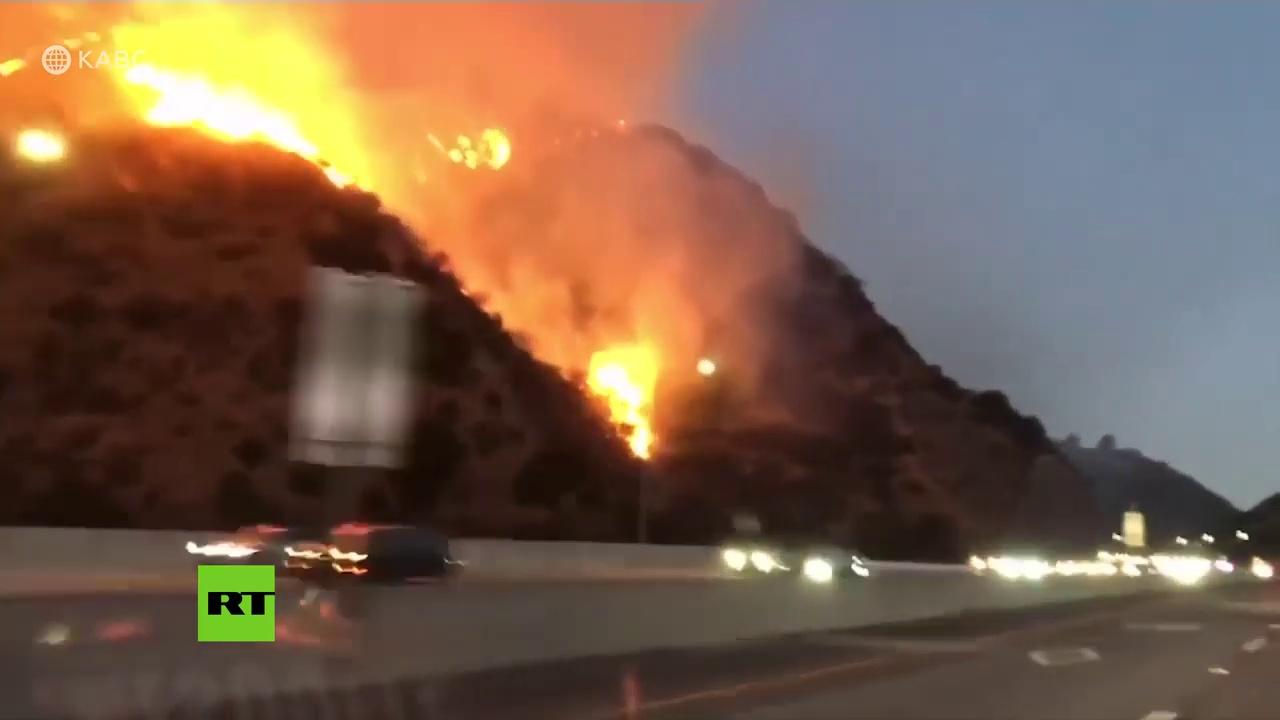Fire: (115, 28, 365, 192), (586, 341, 660, 460), (433, 120, 511, 172)
